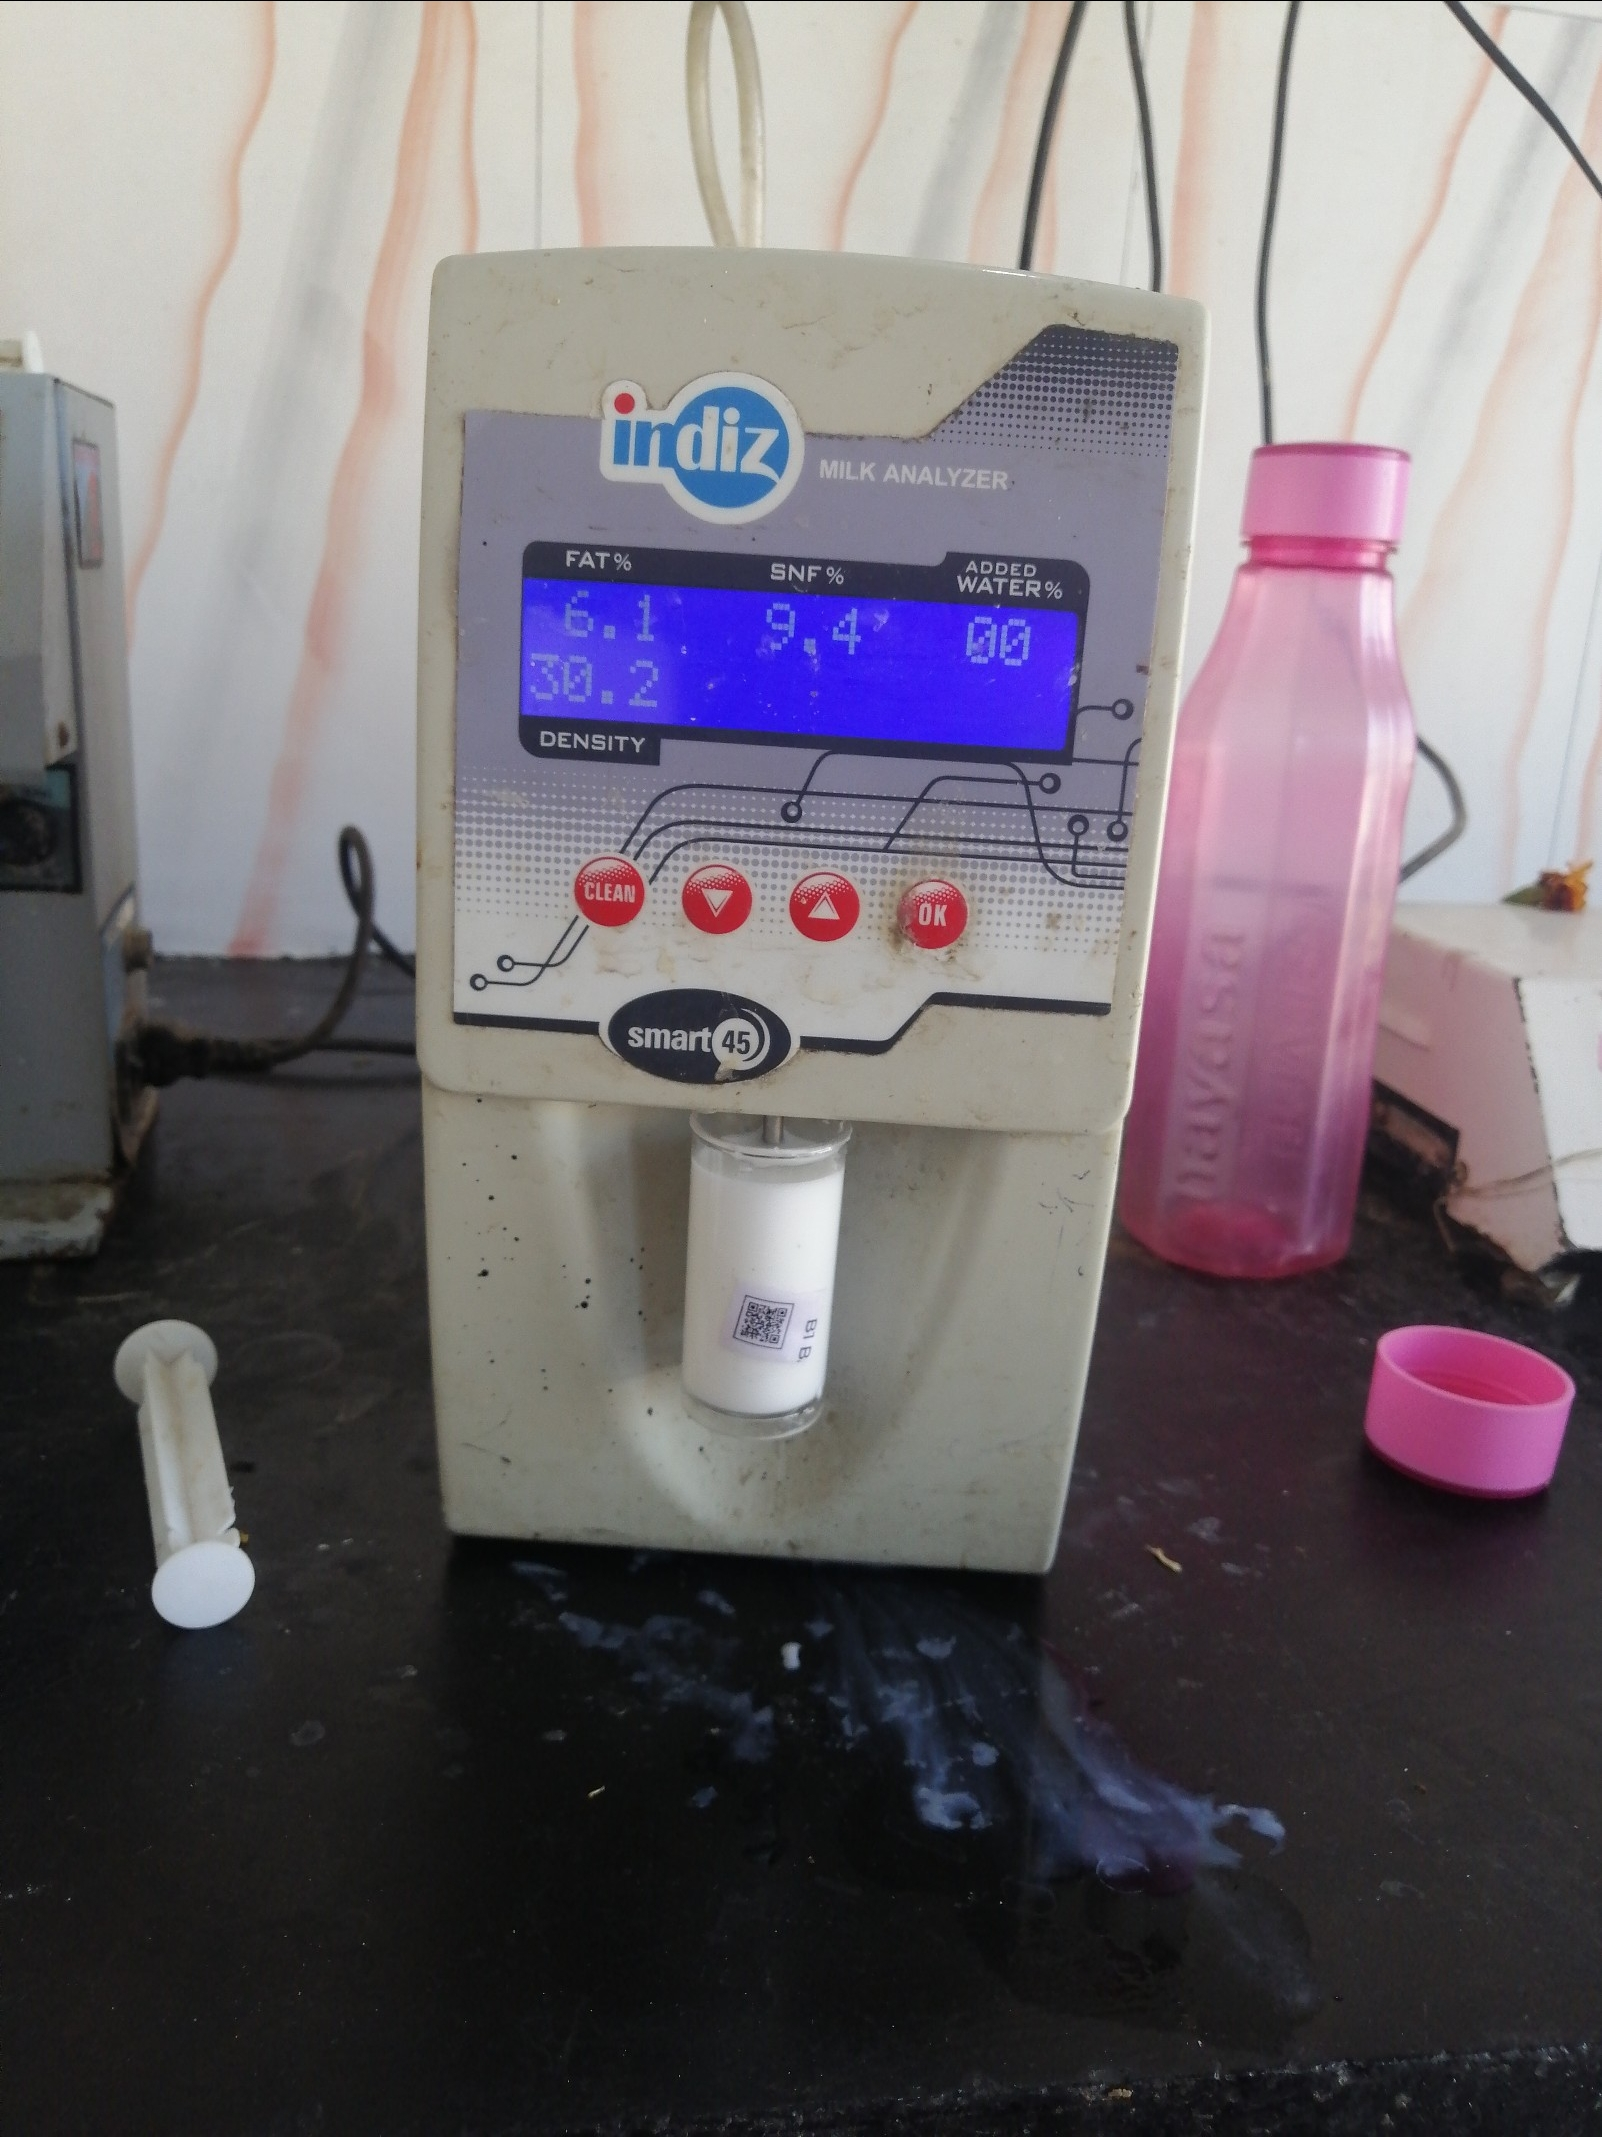lcd: (508, 532, 1112, 777)
qr: (722, 1282, 803, 1361)
